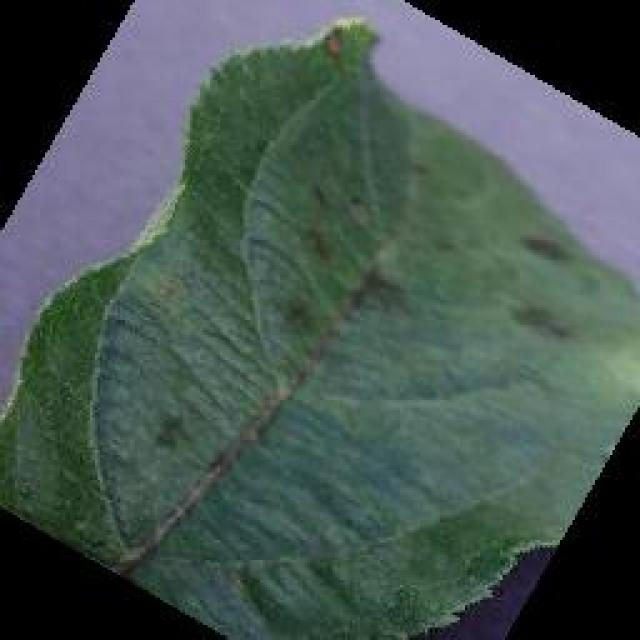apple scab disease: (0, 10, 638, 638)
